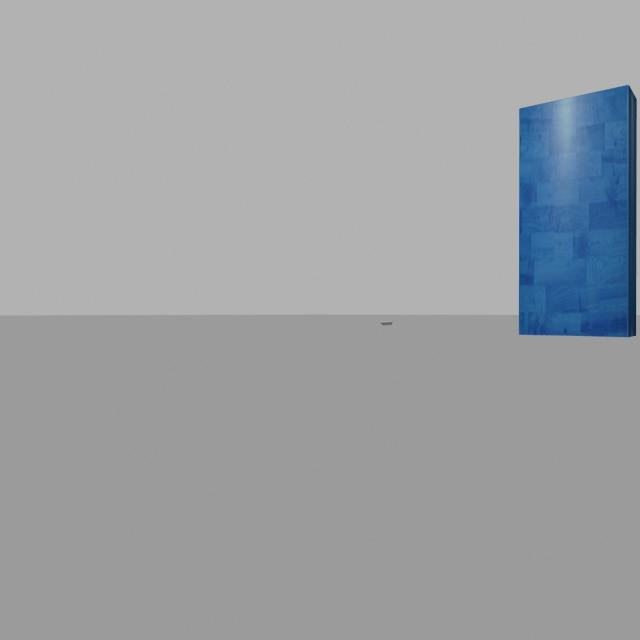bowl: (376, 314, 399, 332)
shelf: (512, 84, 638, 345)
